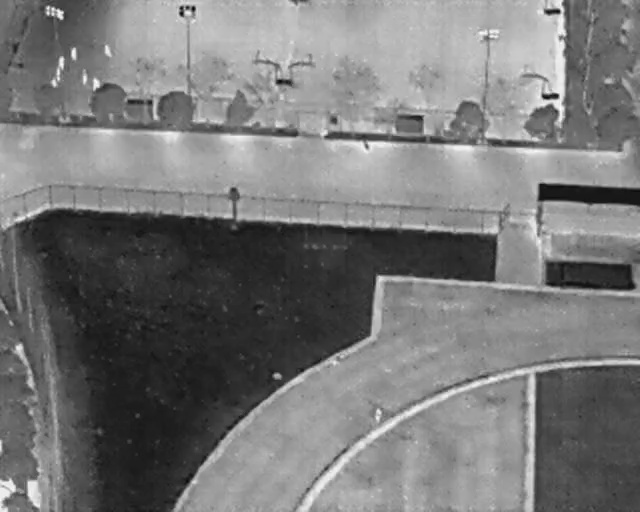Person: (101, 41, 114, 60), (79, 69, 89, 87), (373, 406, 383, 424), (90, 76, 101, 92), (69, 45, 78, 63), (57, 54, 66, 71), (54, 68, 61, 82), (333, 355, 341, 367), (51, 78, 59, 89)
